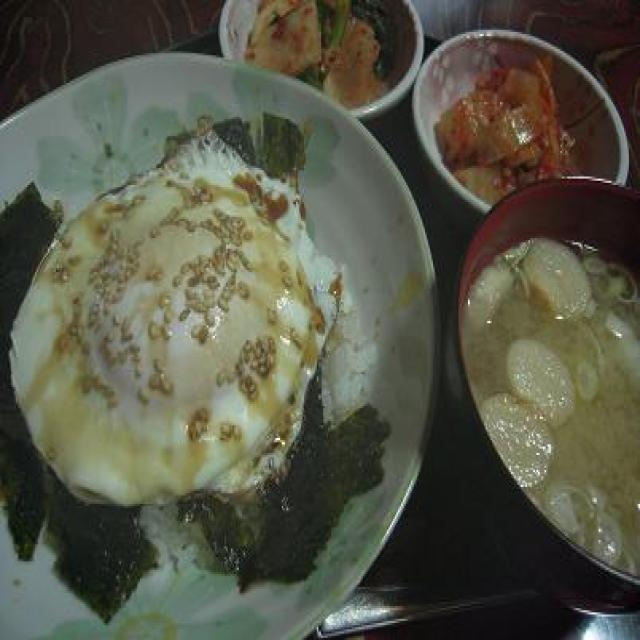鸡蛋料理: (11, 117, 330, 534)
